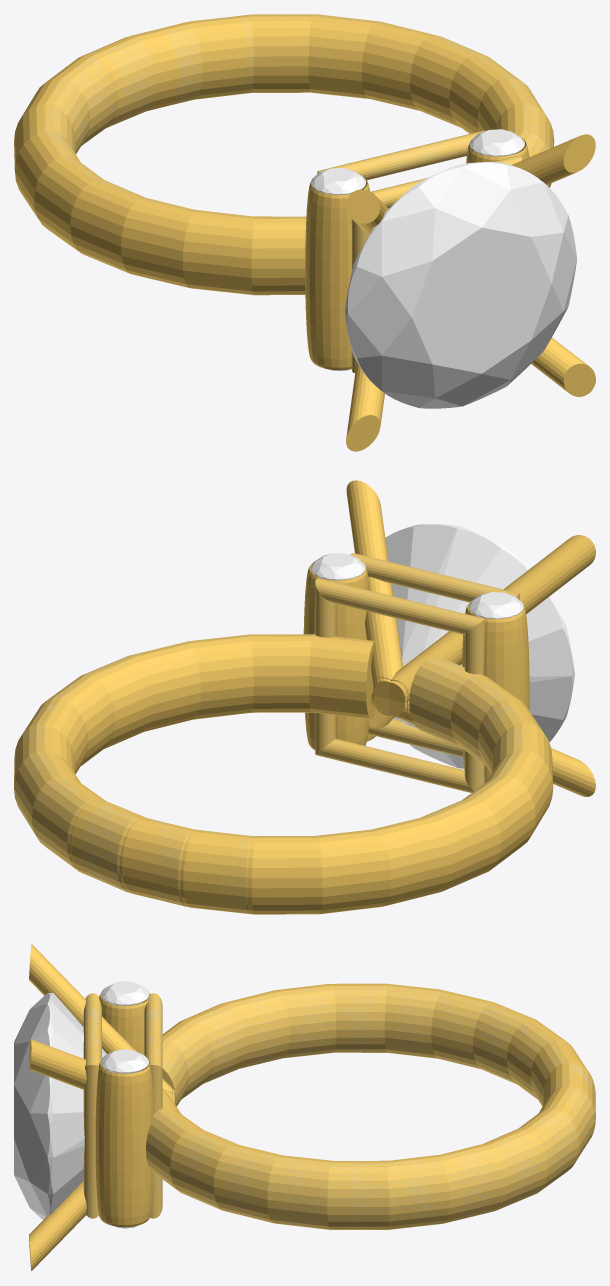
3 renders of one model, top to bottom at view 1: azimuth 30°, elevation 25°; view 2: azimuth 150°, elevation 25°; view 3: azimuth 270°, elevation 25°, orthographic. The views are drawn at different scales.
Visible parts, largest first — view 1: ring; view 2: ring; view 3: ring.
Boxes of the visible parts, box(x1,y1,x2,y2) form: ring: box(14, 14, 595, 451); ring: box(14, 480, 595, 914); ring: box(14, 943, 595, 1270).
Size of the model in its own units: 1.06 by 0.5661 by 1.3.
